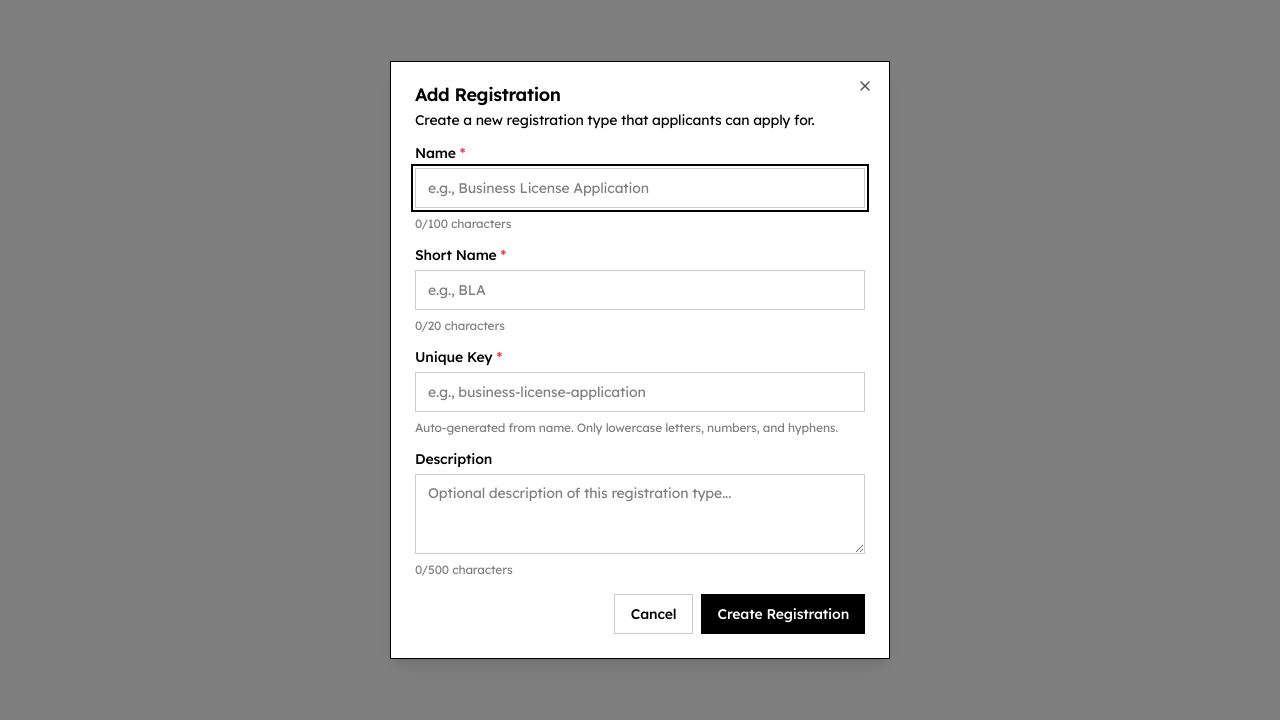
Test: RegistrationForm › Create Mode › shows error message on create failure
Type "Test" into the field labelled "Name *" at (640, 188), box [415,168,865,208]
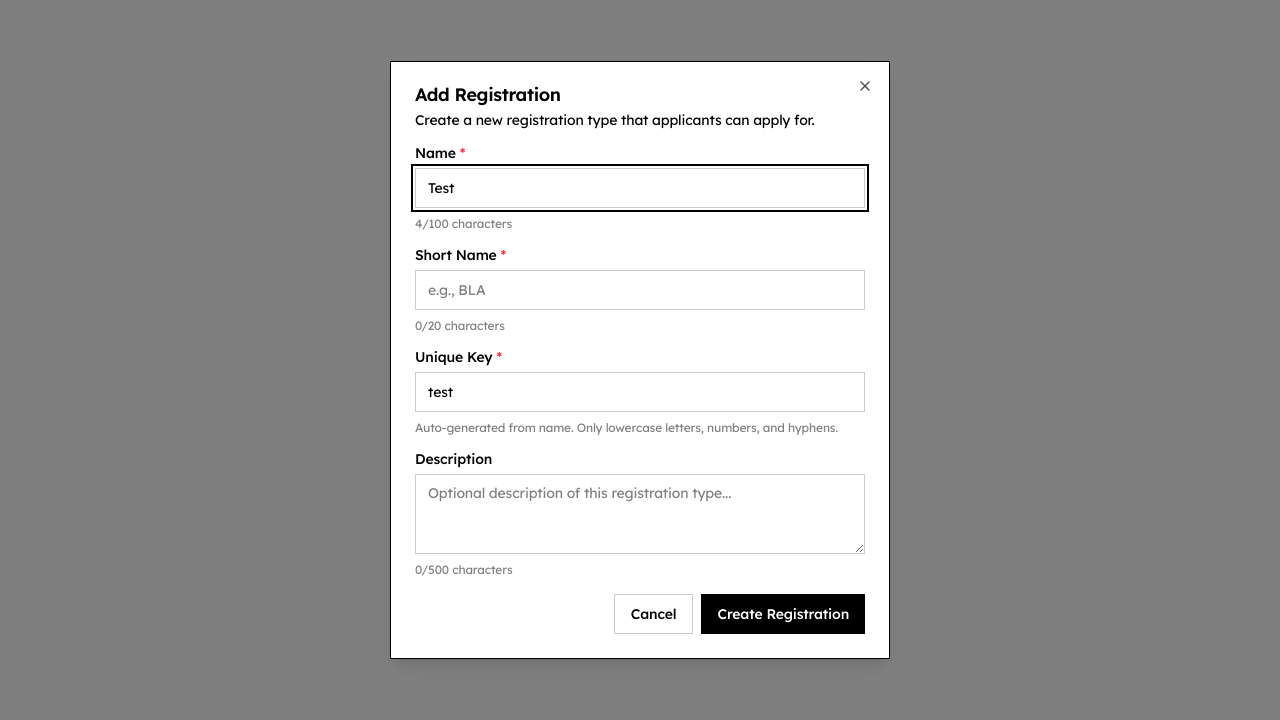
Type "T" into the field labelled "Short Name *" at (640, 290), box [415,270,865,310]
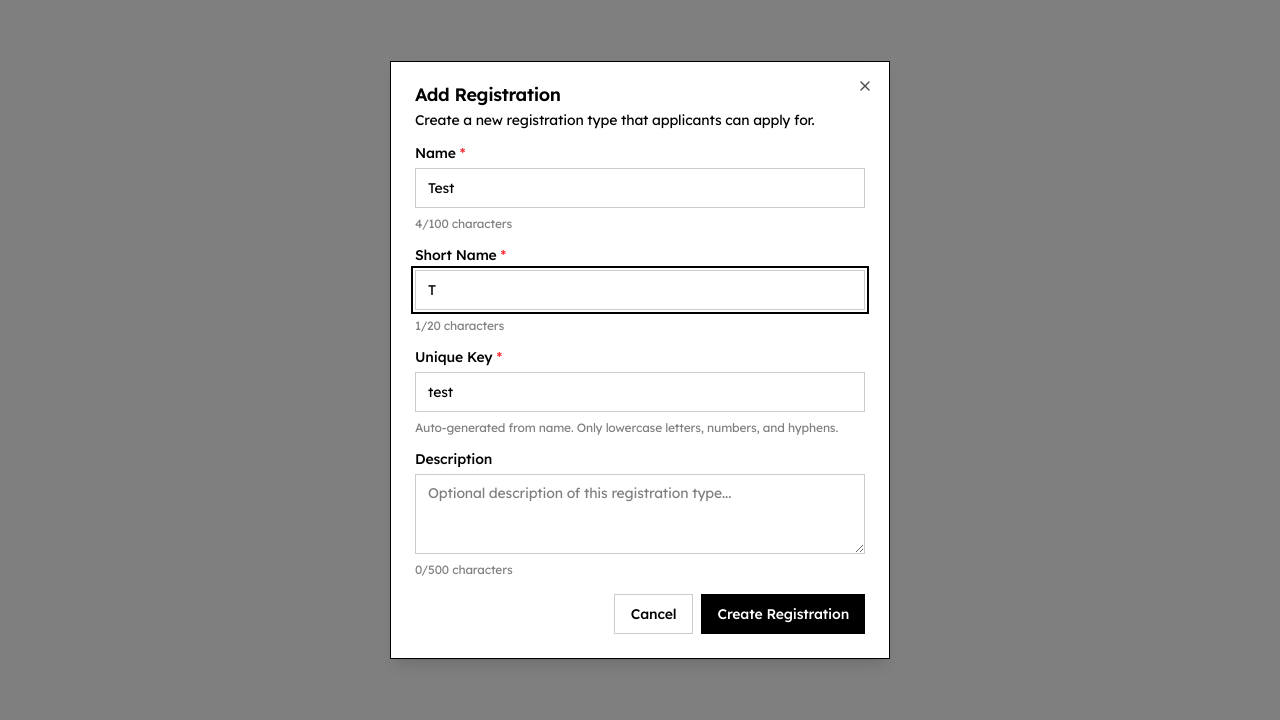
Click the button "Create Registration" at (783, 614), box [702,594,865,634]
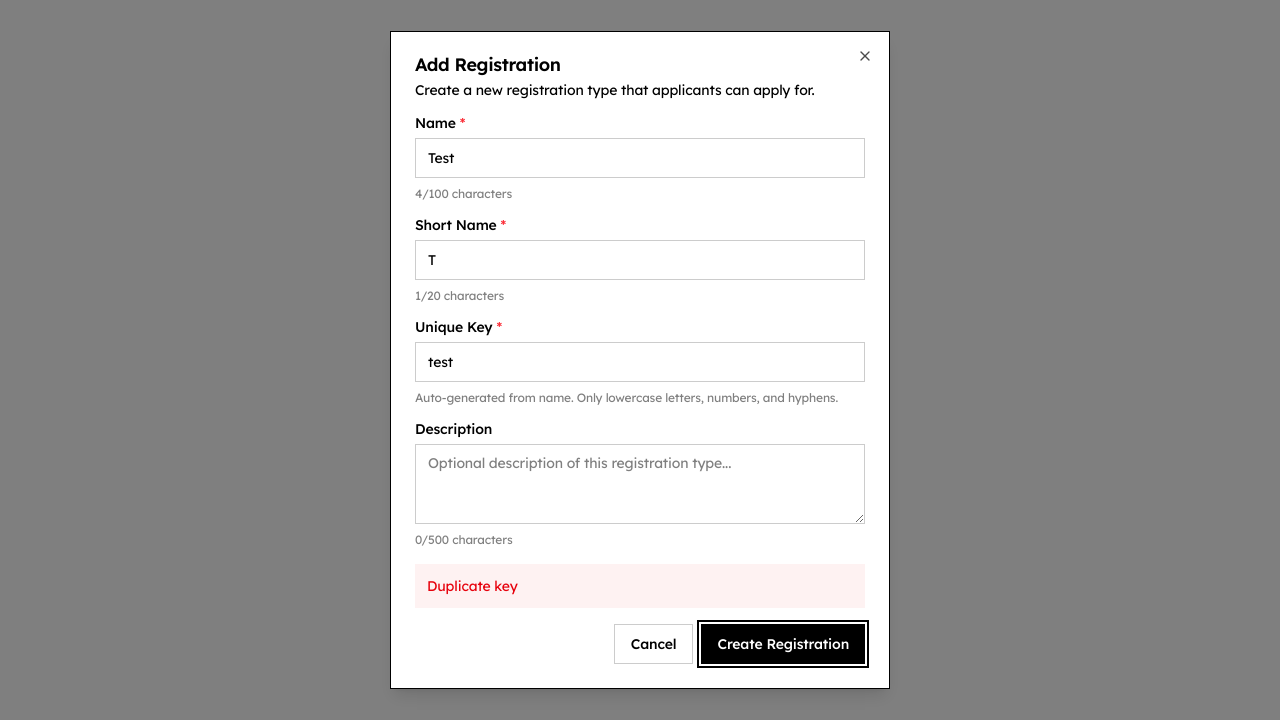
Result: the text "Duplicate key" is shown at [415,564,865,608]
